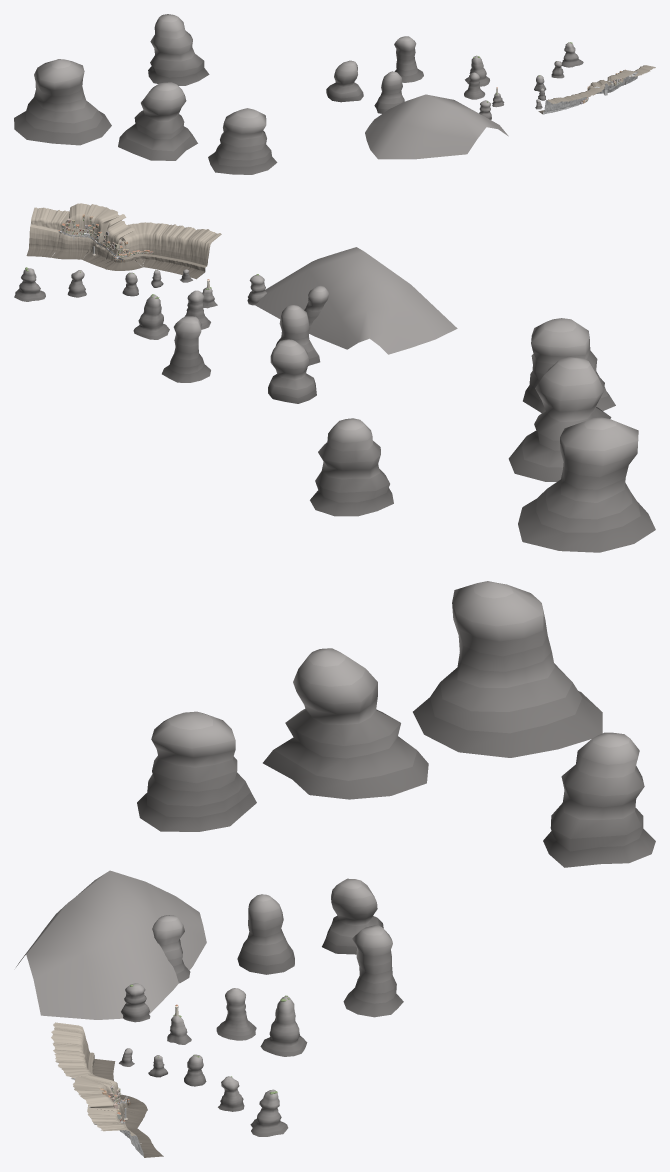
Rendered from level.glb.
3 renders of one model, top to bottom at view 1: azimuth 30°, elevation 25°; view 2: azimuth 150°, elevation 25°; view 3: azimuth 270°, elevation 25°, orthographic. The views are drawn at different scales.
Parts seen in each view (by area): view 1: FAR_far, VIS_rock, COL_cam; view 2: FAR_far, VIS_rock, COL_cam; view 3: FAR_far, VIS_rock.
Part boxes in pixels (x1,y1,x2,y2): FAR_far: (14,14,583,174); VIS_rock: (538,65,655,114); COL_cam: (543,69,645,114); FAR_far: (14,247,655,552); VIS_rock: (26,203,221,279); COL_cam: (52,214,152,266); FAR_far: (16,581,655,1136); VIS_rock: (51,1022,163,1157).
Bounding box in the file's own units: 1919 × 241 × 1074.
